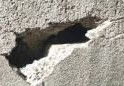Spalling: (4, 14, 112, 86)
